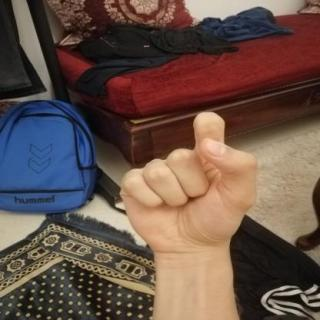FAA: (108, 103, 270, 263)
